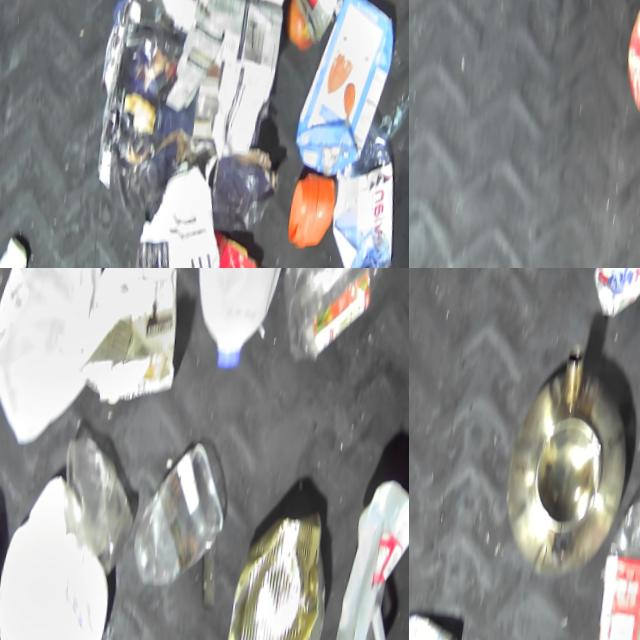can: (220, 499, 342, 640), (409, 609, 465, 640)
milk_jug: (0, 268, 118, 457), (0, 473, 126, 640), (178, 268, 307, 381), (327, 473, 409, 640)
plastic_bottle: (281, 268, 409, 370), (327, 115, 409, 268)
